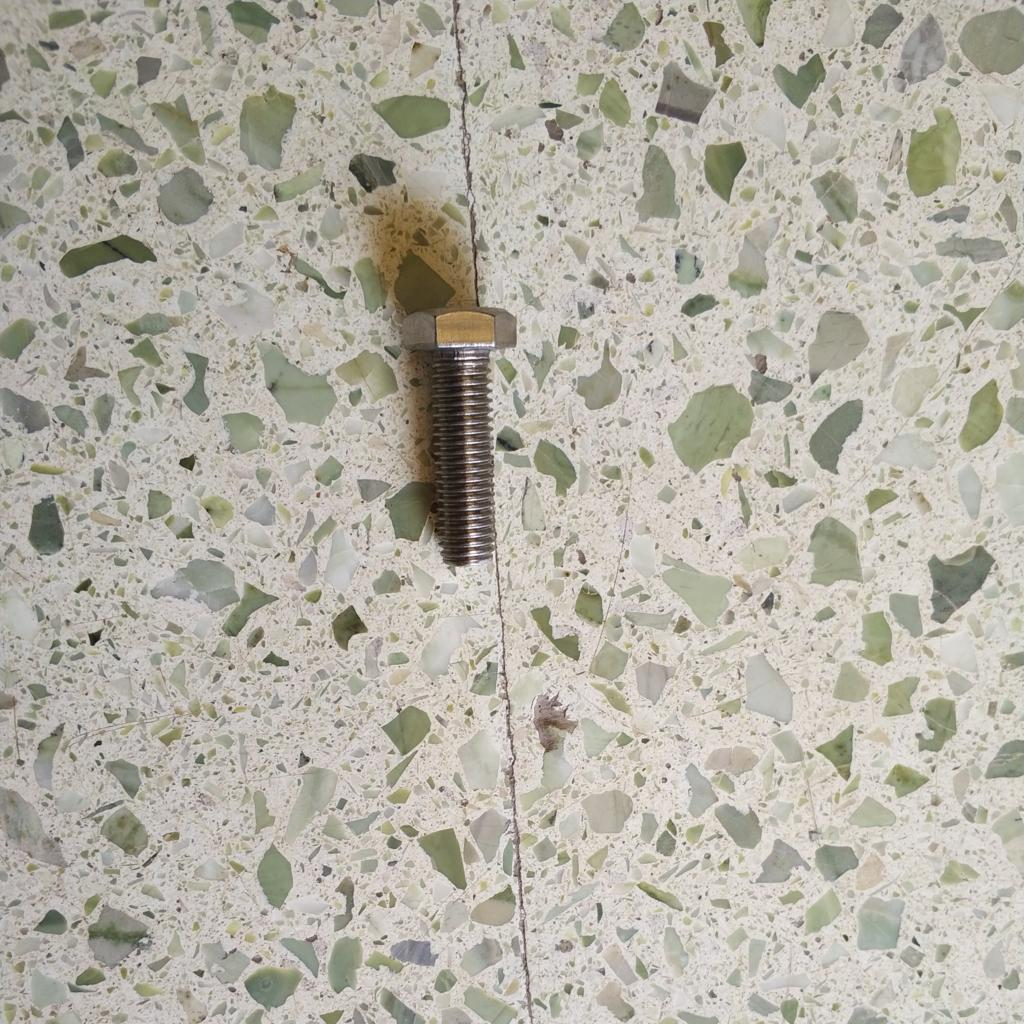screwtype2silver: (399, 304, 520, 568)
